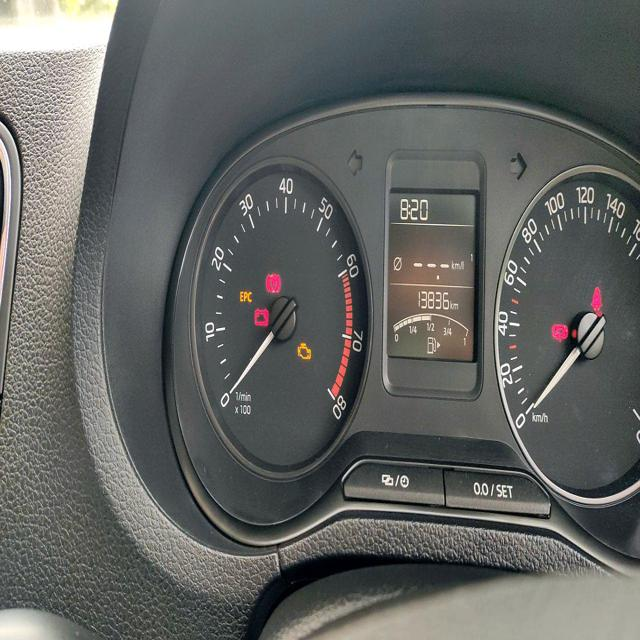odometer: (413, 284, 452, 314)
